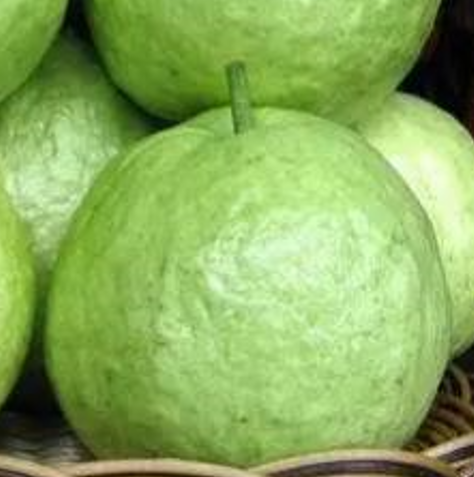guava_A: (43, 105, 452, 472)
